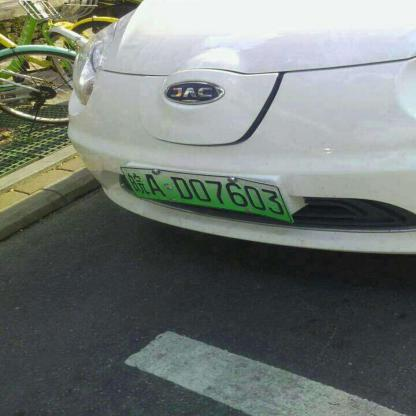lp: (121, 168, 292, 222)
